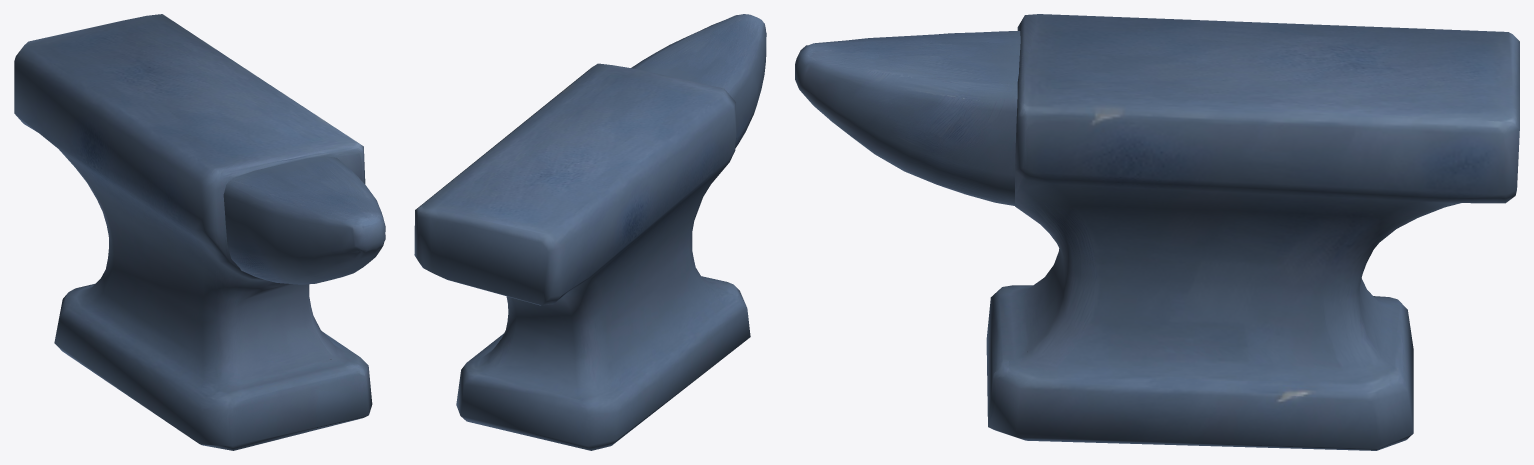
The picture shows the model from 3 angles, left to right: view 1: azimuth 30°, elevation 25°; view 2: azimuth 150°, elevation 25°; view 3: azimuth 270°, elevation 25°; orthographic projection. The views are drawn at different scales.
Visible parts, largest first — view 1: tripo_node_aed636c0-9de5-41d4-87ae-04f5a5071495; view 2: tripo_node_aed636c0-9de5-41d4-87ae-04f5a5071495; view 3: tripo_node_aed636c0-9de5-41d4-87ae-04f5a5071495.
Boxes of the visible parts, left/top/right/bottom form: tripo_node_aed636c0-9de5-41d4-87ae-04f5a5071495: left=14, top=14, right=385, bottom=450; tripo_node_aed636c0-9de5-41d4-87ae-04f5a5071495: left=414, top=14, right=766, bottom=450; tripo_node_aed636c0-9de5-41d4-87ae-04f5a5071495: left=795, top=14, right=1519, bottom=450.
Size of the model in its own units: 0.3457 by 0.5332 by 0.998.
1 material, 1 textured.
